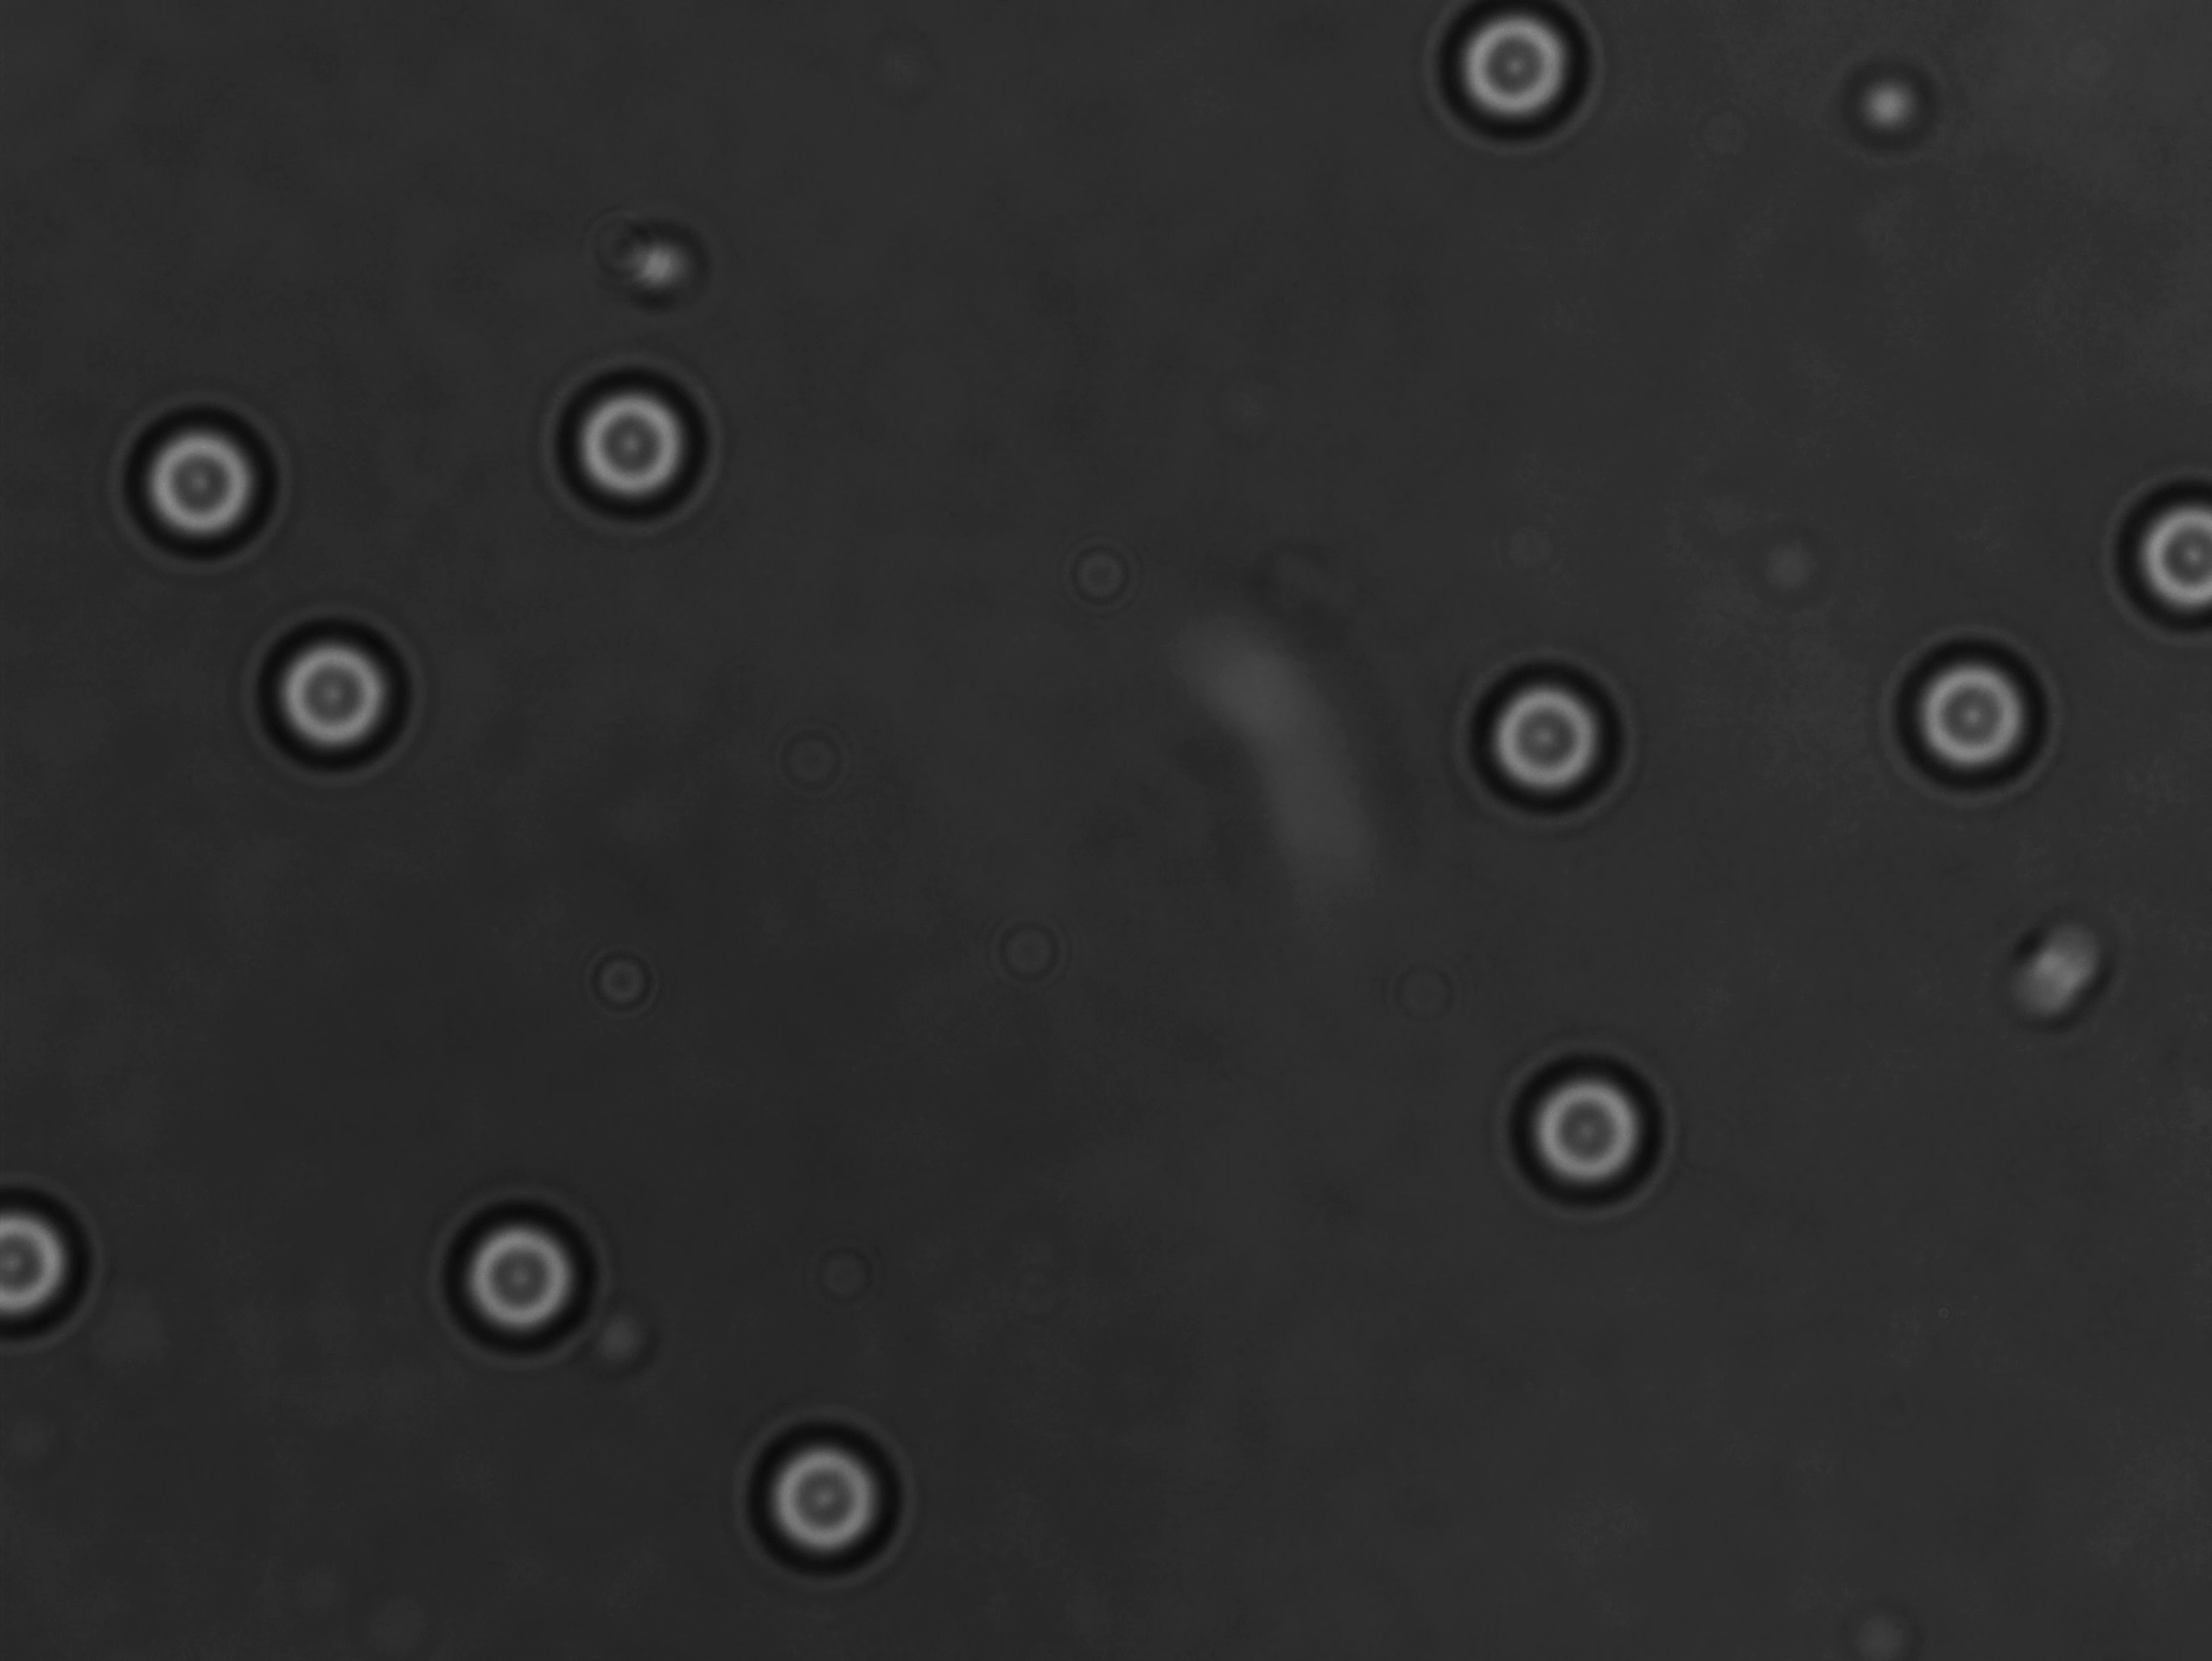depth:40: (1450, 644, 1652, 832), (727, 1399, 921, 1579), (420, 1185, 600, 1370), (1893, 635, 2065, 818), (246, 609, 429, 780), (117, 408, 291, 578), (1505, 1042, 1664, 1220), (551, 366, 712, 534), (2097, 459, 2212, 632)
